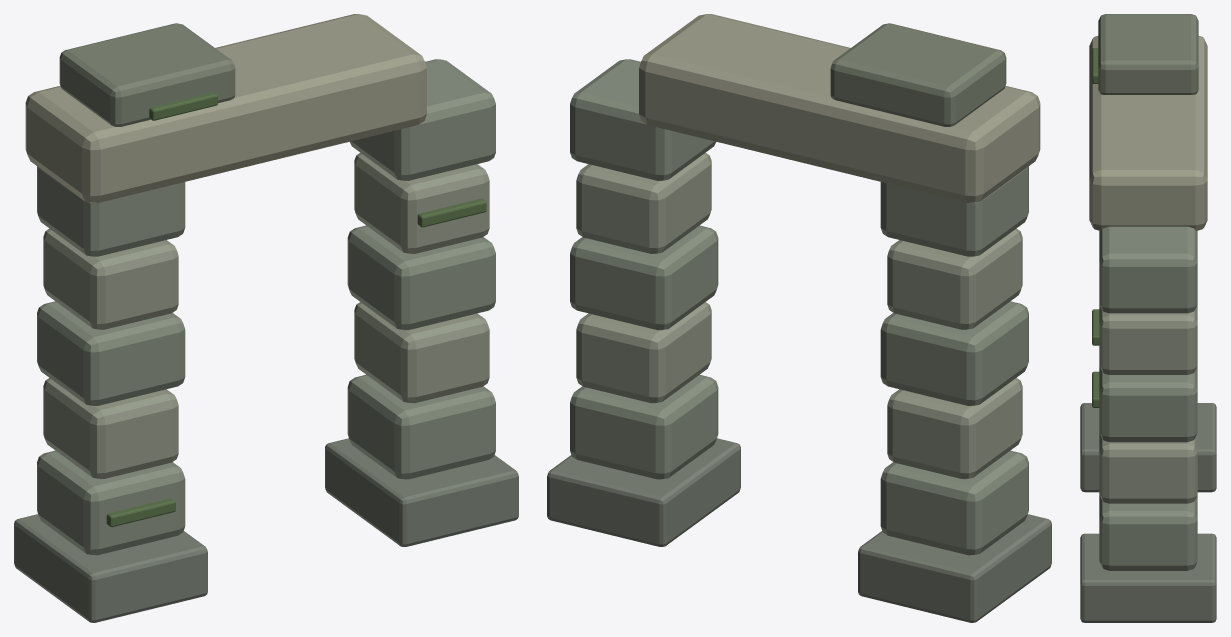
File: xingyin-environment-v1__ruin_arch.glb
3 views of the same model, side by side, from view 1: azimuth 30°, elevation 25°; view 2: azimuth 150°, elevation 25°; view 3: azimuth 270°, elevation 25° (orthographic). The views are drawn at different scales.
Visible parts, largest first — view 1: ruin_arch; view 2: ruin_arch; view 3: ruin_arch.
Boxes of the visible parts, x1,y1,x2,y2 form: ruin_arch: (14, 14, 518, 622); ruin_arch: (547, 14, 1051, 622); ruin_arch: (1080, 14, 1216, 622).
Size of the model in its own units: 2.35 by 2.71 by 0.75.
